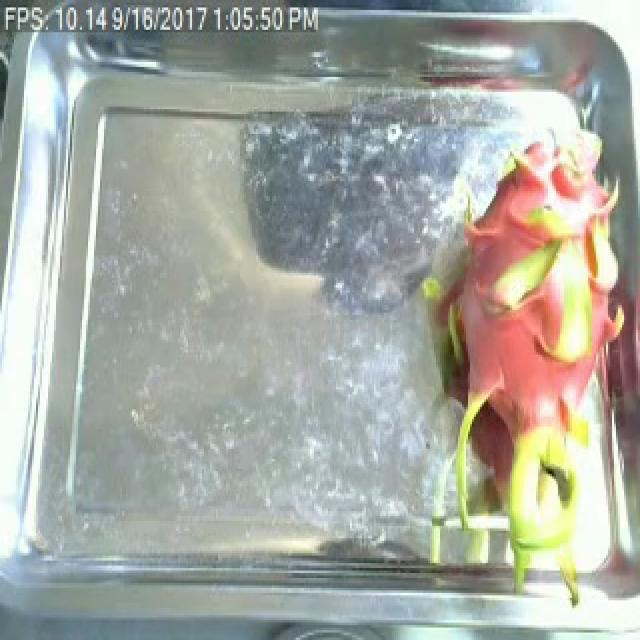fruit: (382, 168, 640, 622)
